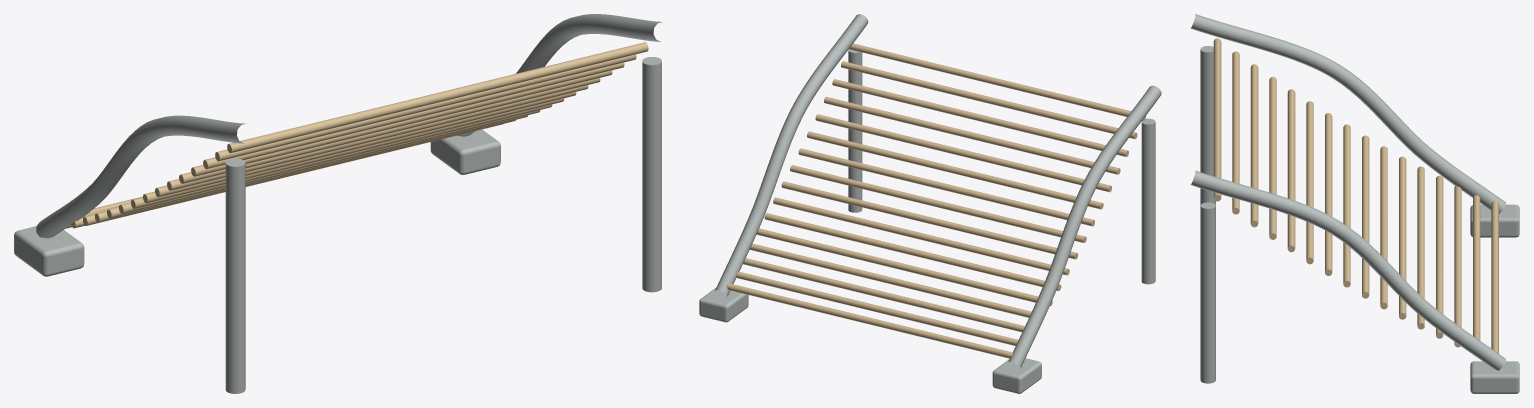
The model's file is cricket-ground-and-pavilion-catching-cradle-06dccd7d__31349.glb.
The picture shows the model from 3 angles, left to right: view 1: azimuth 30°, elevation 25°; view 2: azimuth 150°, elevation 25°; view 3: azimuth 270°, elevation 25°; orthographic projection. The views are drawn at different scales.
Visible parts, largest first — view 1: catching-cradle; view 2: catching-cradle; view 3: catching-cradle.
Part boxes in pixels (left/top/right/bottom): catching-cradle: left=14, top=14, right=662, bottom=393; catching-cradle: left=699, top=14, right=1161, bottom=393; catching-cradle: left=1190, top=14, right=1519, bottom=393.
Bounding box in the file's own units: 1.32 × 0.7723 × 1.07.
